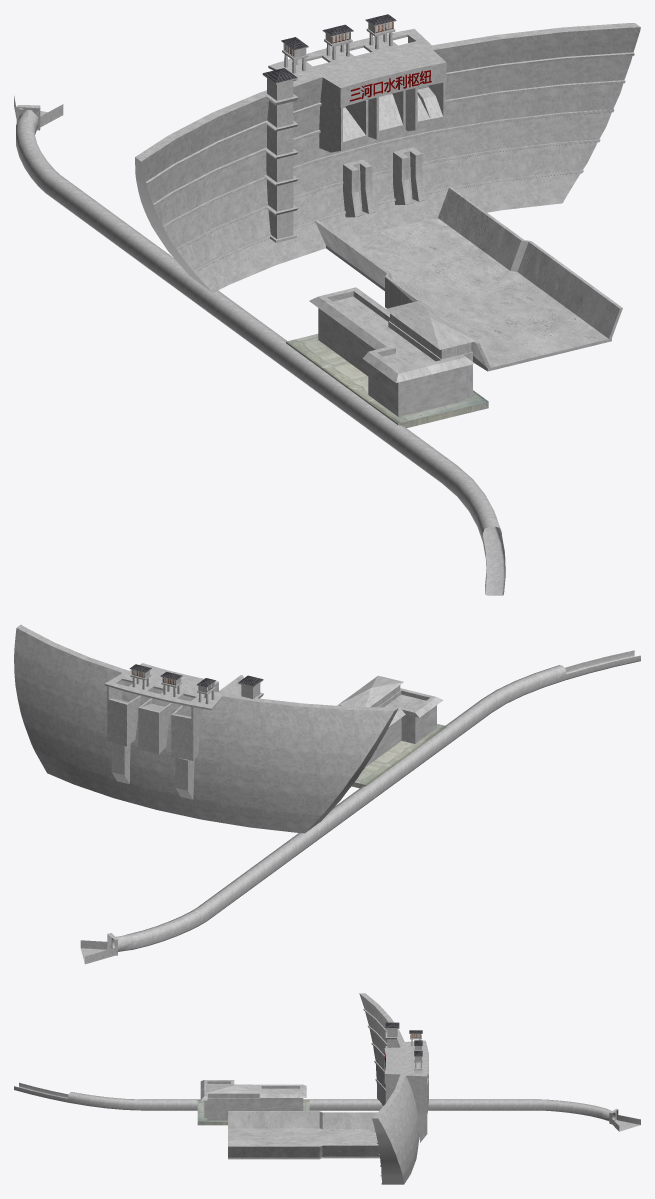
File: sanhekou_2.obj
The picture shows the model from 3 angles, top to bottom: view 1: azimuth 30°, elevation 25°; view 2: azimuth 150°, elevation 25°; view 3: azimuth 270°, elevation 25°; orthographic projection. The views are drawn at different scales.
Visible parts, largest first — view 1: Rectangle012, Rectangle013, Line038, Line037, Box011, Box023, Rectangle014, object 7, Line032, Line031, Line030, object 28 (+3 smaller); view 2: Rectangle012, Line038, Line037, object 28, Line032, object 14, object 7, Box023, Rectangle014, Box013, Box012; view 3: Rectangle013, Line038, Rectangle012, Rectangle014, Line037, object 28, Line032, Line031, Box023.
Boxes of the visible parts, <box> form: Rectangle012: <box>135,23,640,292</box>; Rectangle013: <box>315,187,622,371</box>; Line038: <box>14,96,505,595</box>; Line037: <box>309,287,475,416</box>; Box011: <box>262,73,298,242</box>; Box023: <box>286,334,488,428</box>; Rectangle014: <box>384,300,475,397</box>; object 7: <box>293,60,368,152</box>; Line032: <box>268,28,431,80</box>; Line031: <box>322,50,446,90</box>; Line030: <box>339,61,446,107</box>; object 28: <box>405,30,445,131</box>; Rectangle012: <box>14,624,398,833</box>; Line038: <box>80,650,640,964</box>; Line037: <box>365,688,443,767</box>; object 28: <box>107,671,141,746</box>; Line032: <box>104,673,222,710</box>; object 14: <box>138,698,171,754</box>; object 7: <box>171,684,217,760</box>; Box023: <box>351,724,446,788</box>; Rectangle014: <box>338,675,403,707</box>; Box013: <box>175,757,194,799</box>; Box012: <box>111,742,130,784</box>; Rectangle013: <box>228,1111,379,1159</box>; Line038: <box>14,1082,640,1131</box>; Rectangle012: <box>359,993,419,1184</box>; Rectangle014: <box>206,1084,261,1120</box>; Line037: <box>200,1080,306,1117</box>; object 28: <box>385,1074,428,1114</box>; Line032: <box>404,1040,428,1077</box>; Line031: <box>384,1047,401,1075</box>; Box023: <box>197,1100,309,1125</box>.
Size of the model in its own units: 2428 by 980 by 5145.
